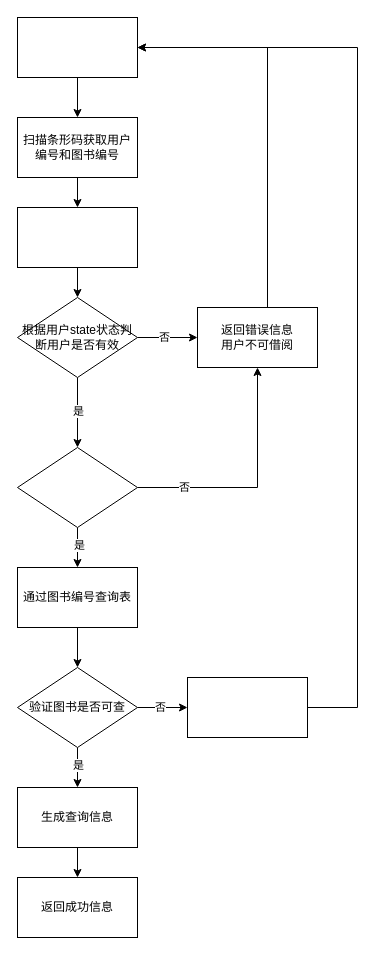
This 383x955 diagram has some shape labels left out. The centre of each missing label's shape, as x and y in pixels:
"图书信息" belongs at point (77, 47).
"用户借阅数量是否达到上限" belongs at point (77, 487).
"返回错误信息 图书不可借阅" belongs at point (247, 707).
"通过用户编号查询" belongs at point (77, 237).
